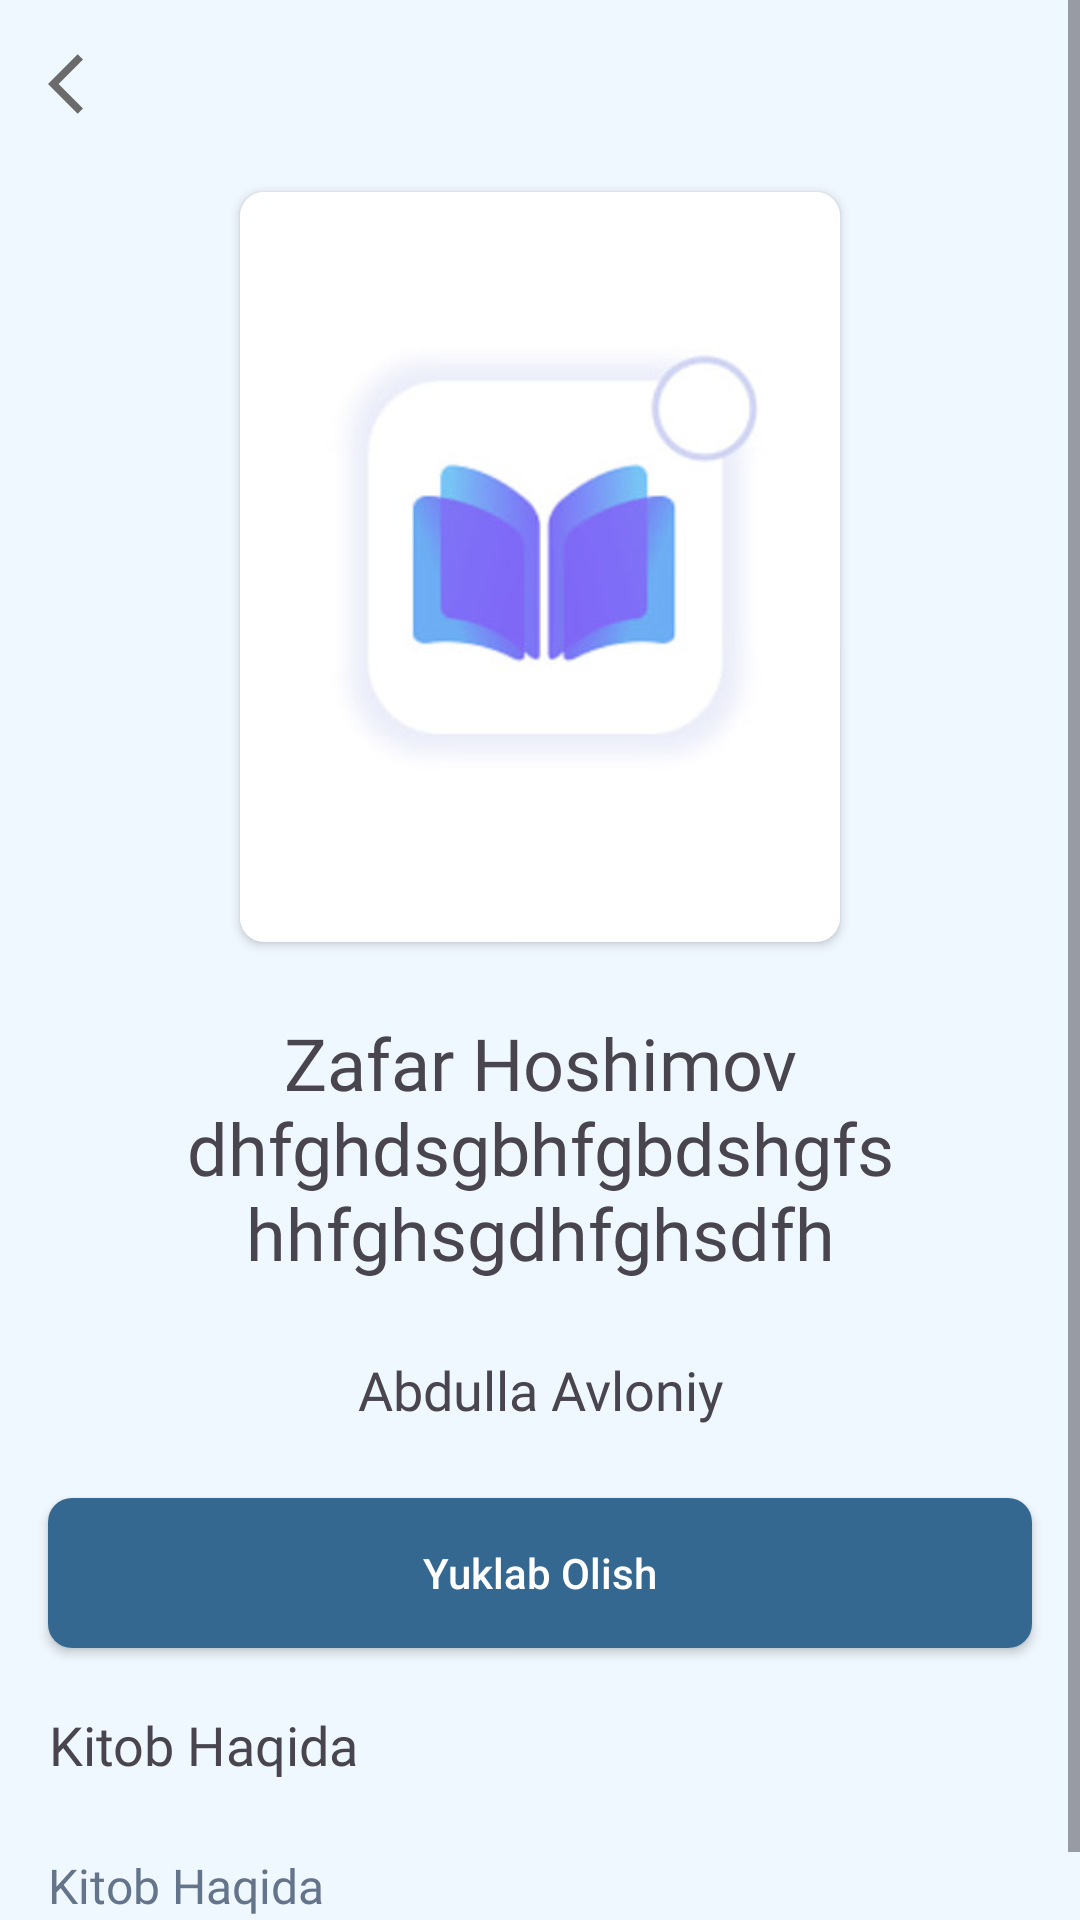

Screen size 1080*1920. Icon name, then its box in pixels as (x1, y1, x2, y2):
back: (48, 54, 83, 114)
